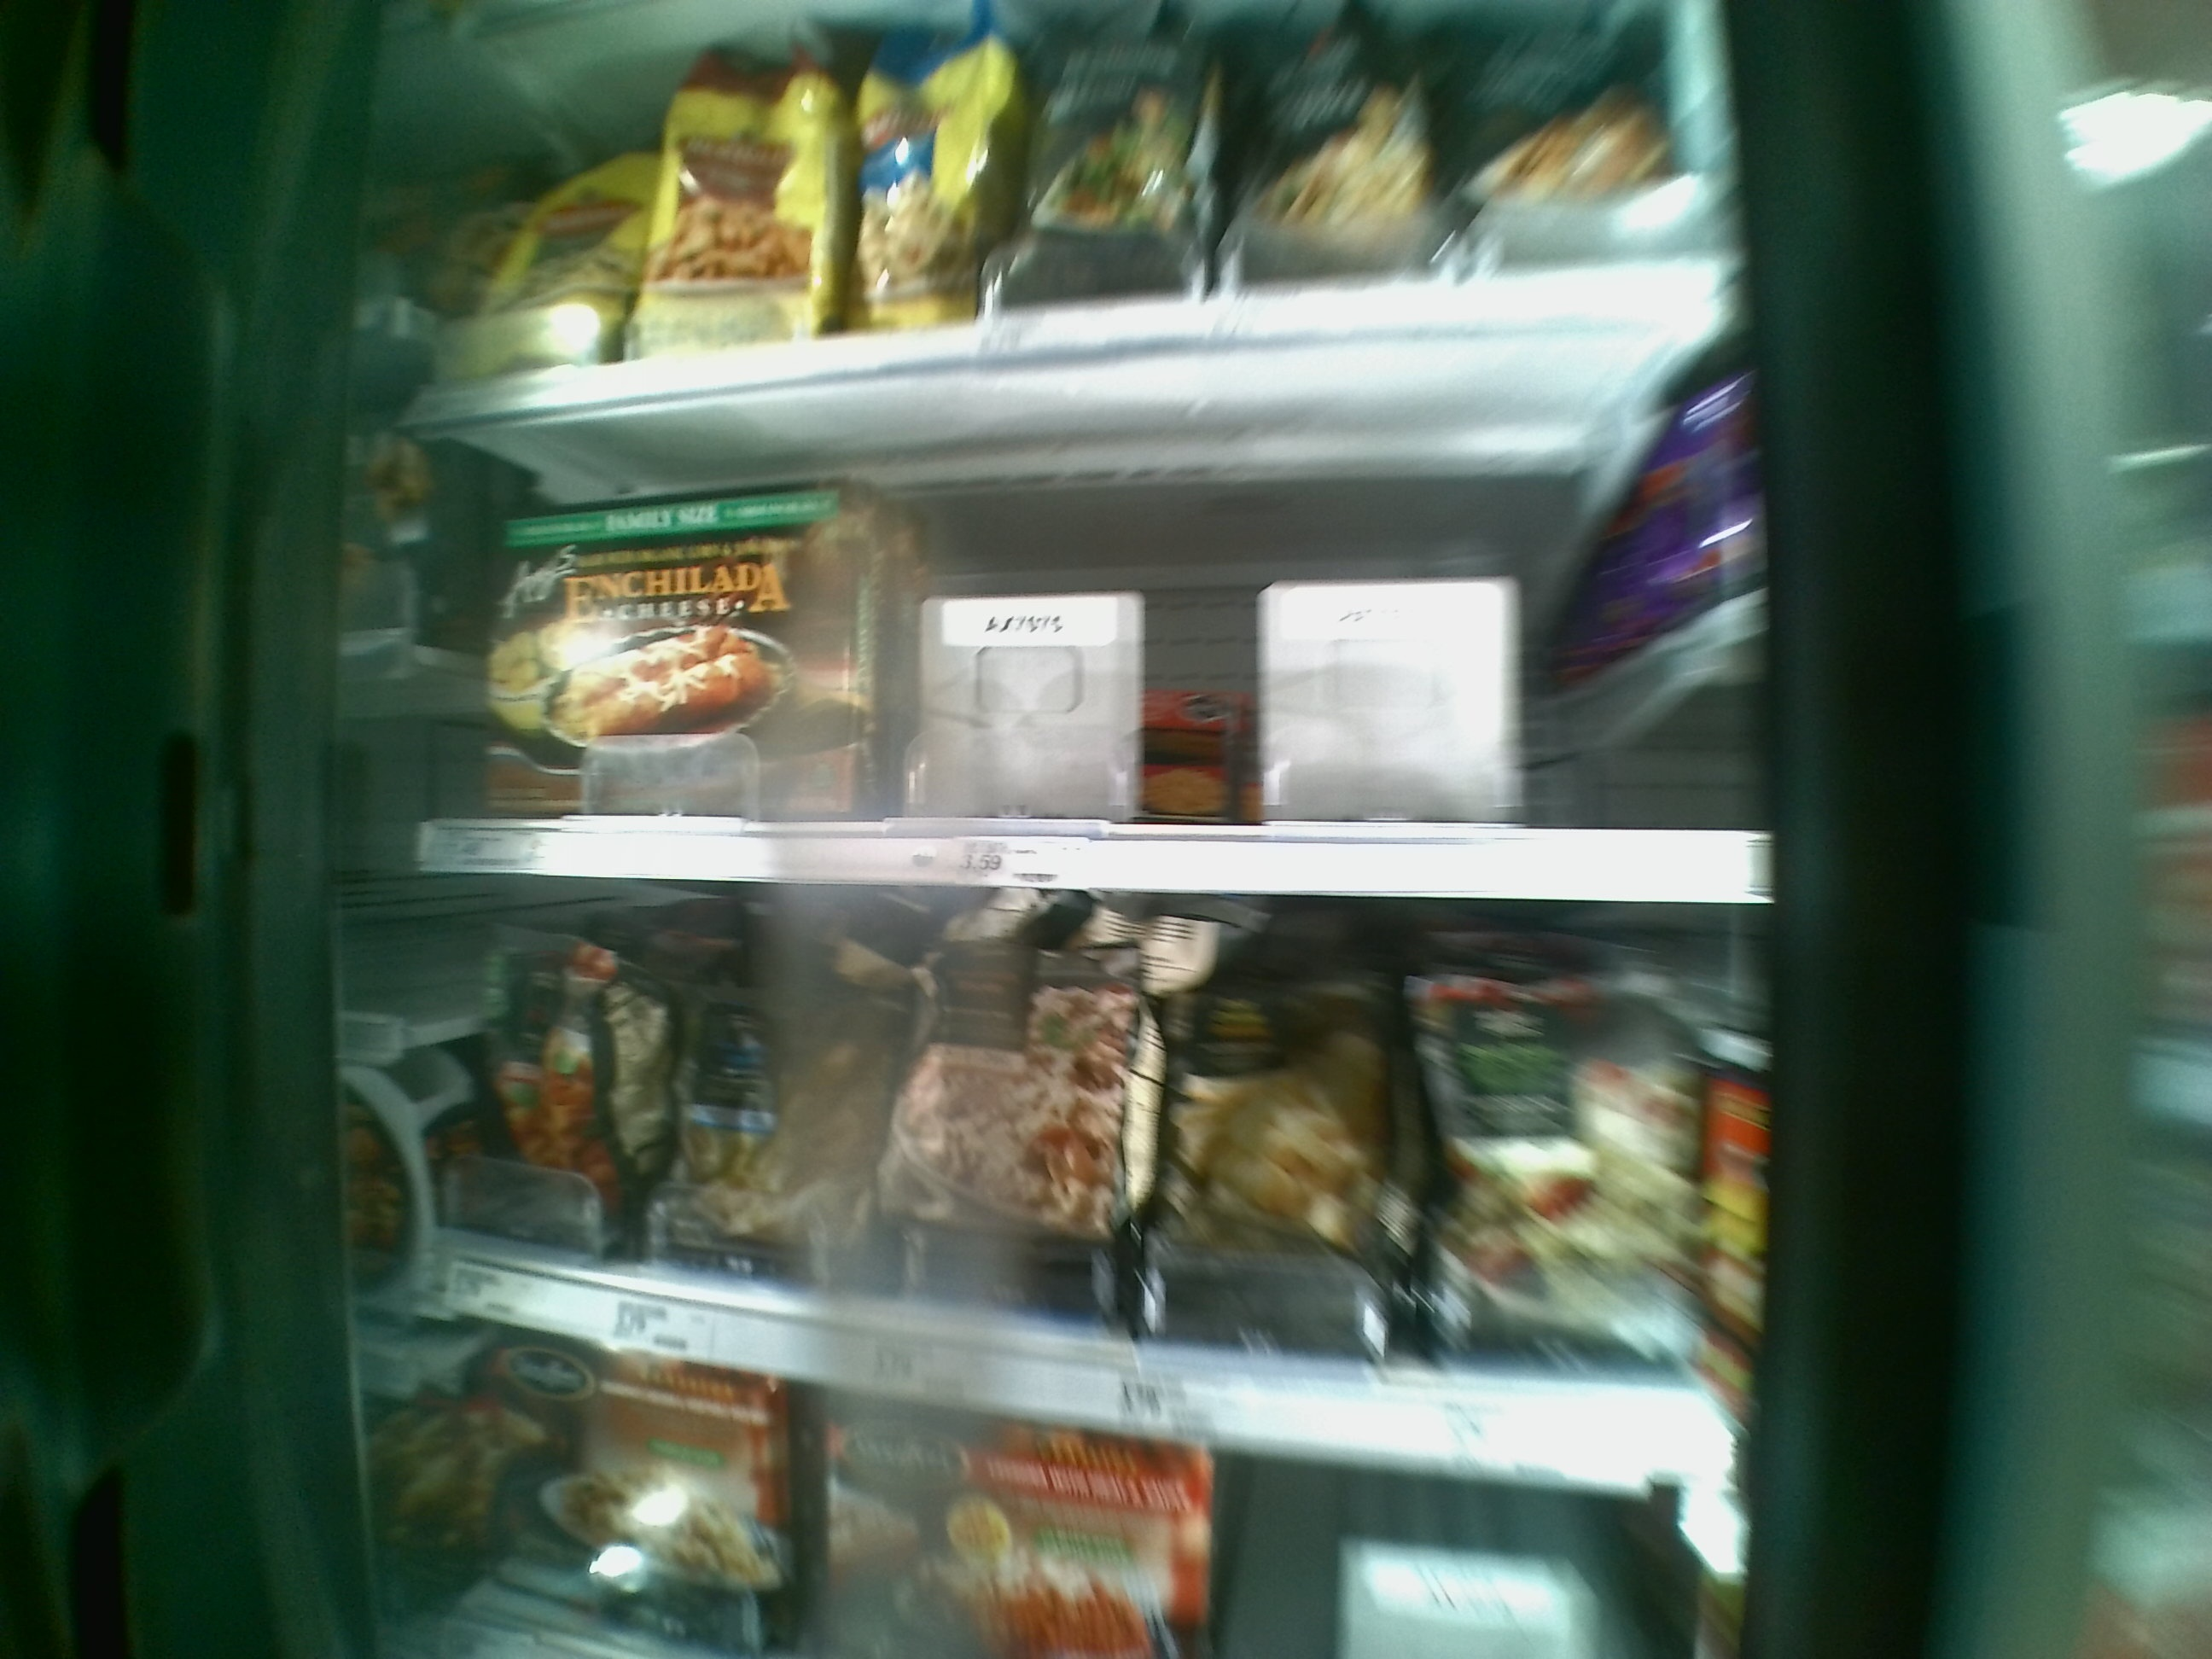shelf: (432, 878, 1733, 1513), (415, 392, 1773, 910), (416, 5, 1730, 385)
